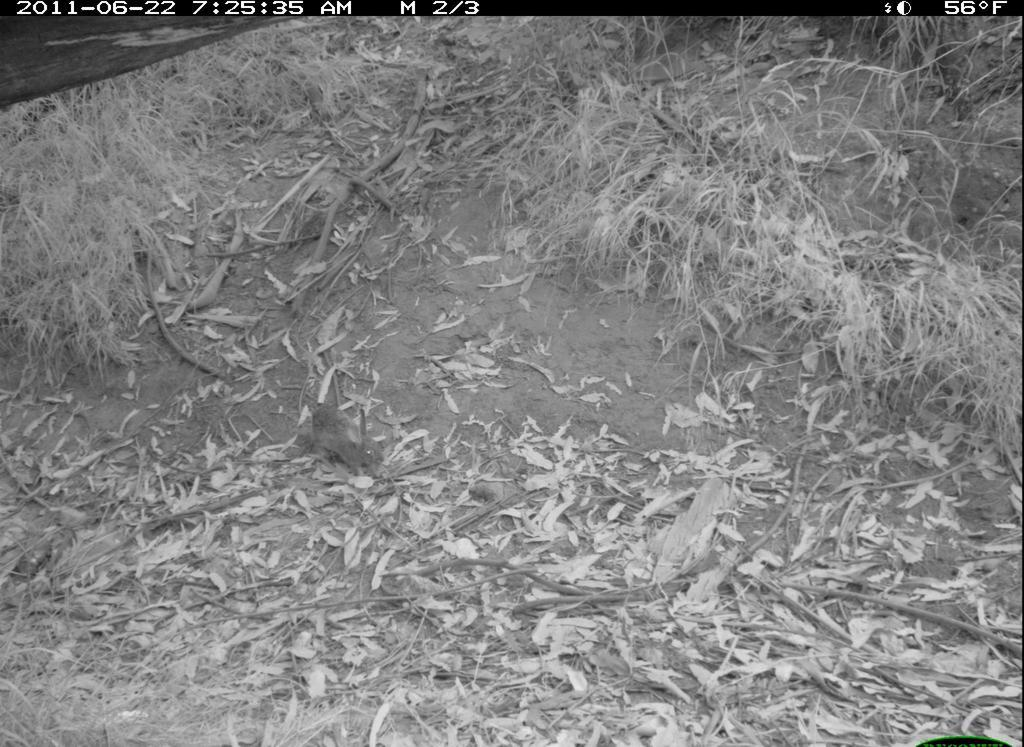rabbit: (294, 385, 393, 481)
